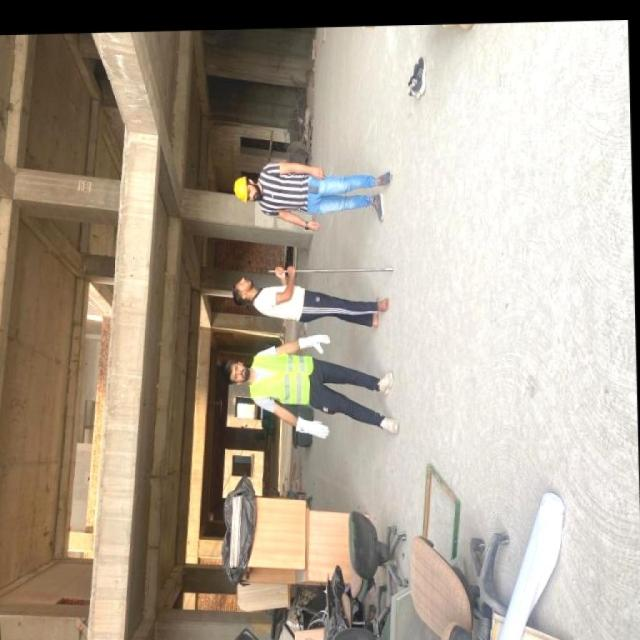Gloves-Detection: (288, 414, 330, 444), (291, 332, 332, 357)
